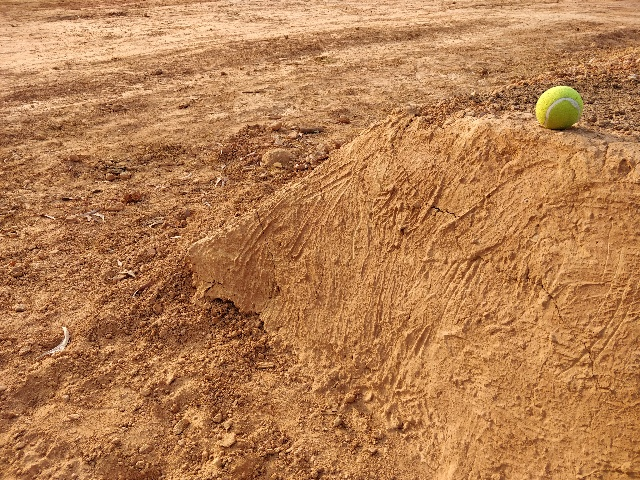ball: (533, 83, 587, 134)
